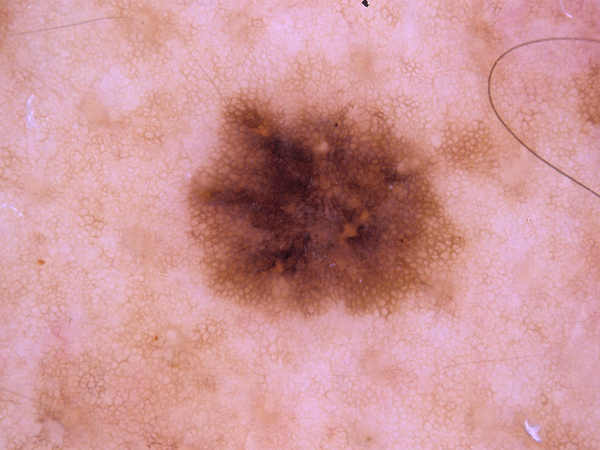Detected Lesion: (180, 87, 462, 336)
